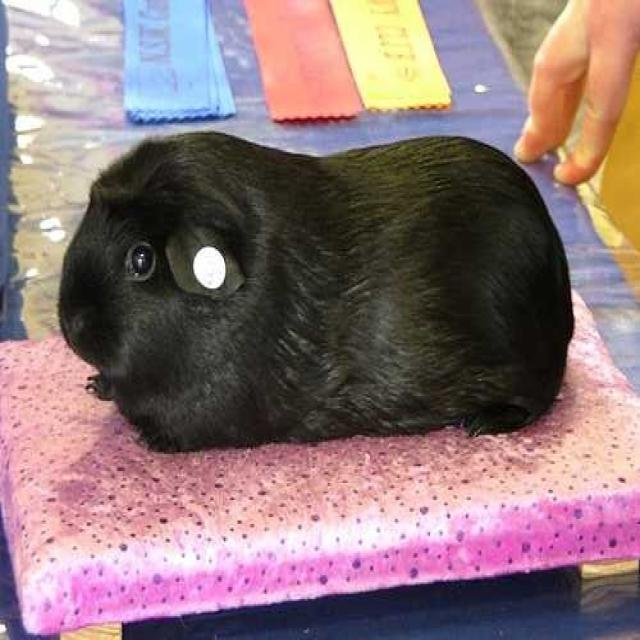guinea pig: (61, 136, 576, 438)
